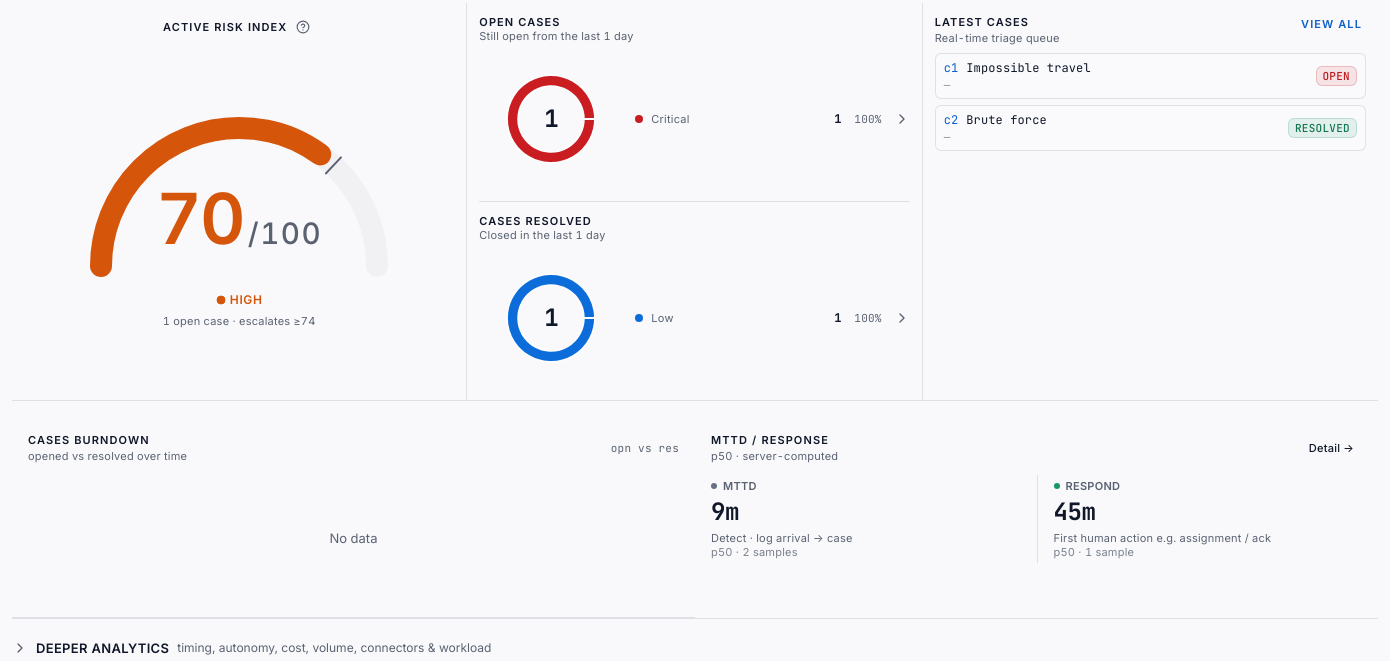
Test case: Overview — ingest-coverage tile › falls back to the "not yet reported" empty state when coverage is unavailable
(page scrolled)
Click the button "Deeper analytics" at (103, 648), box [12, 635, 1378, 660]
(page scrolled)
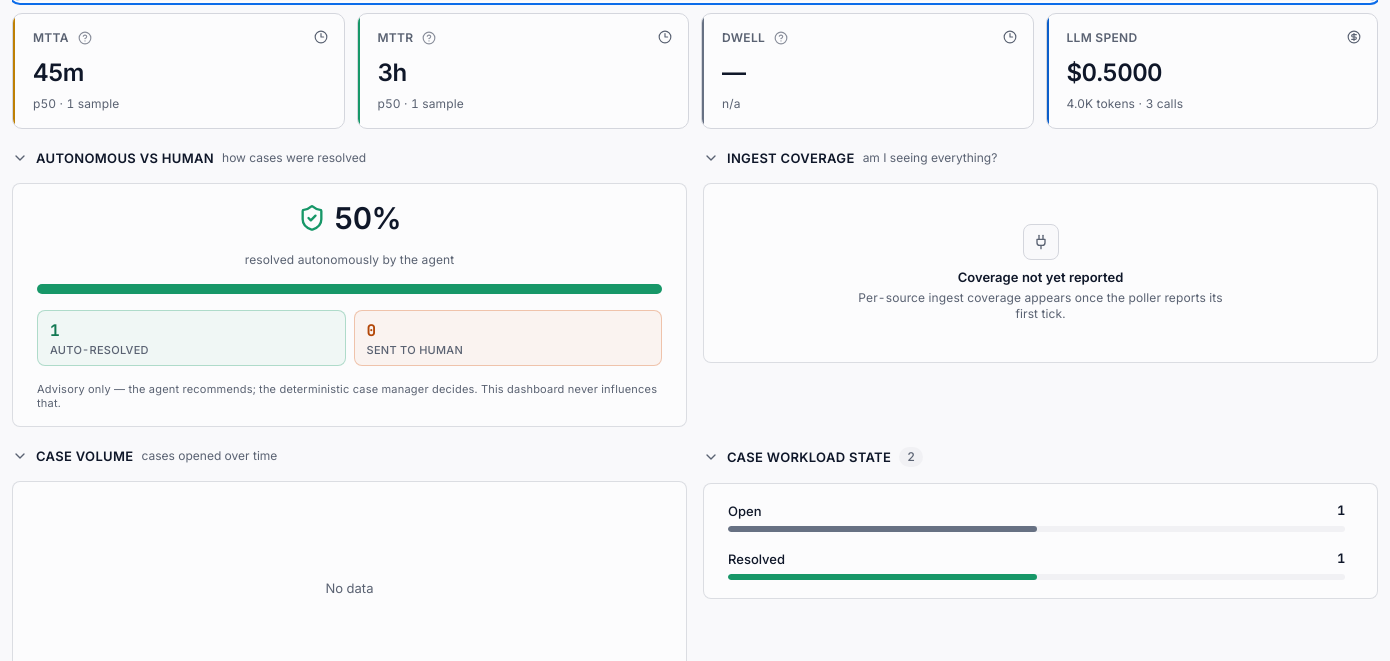
Expected: the text "Coverage not yet reported" is shown, [958, 269, 1123, 285]
